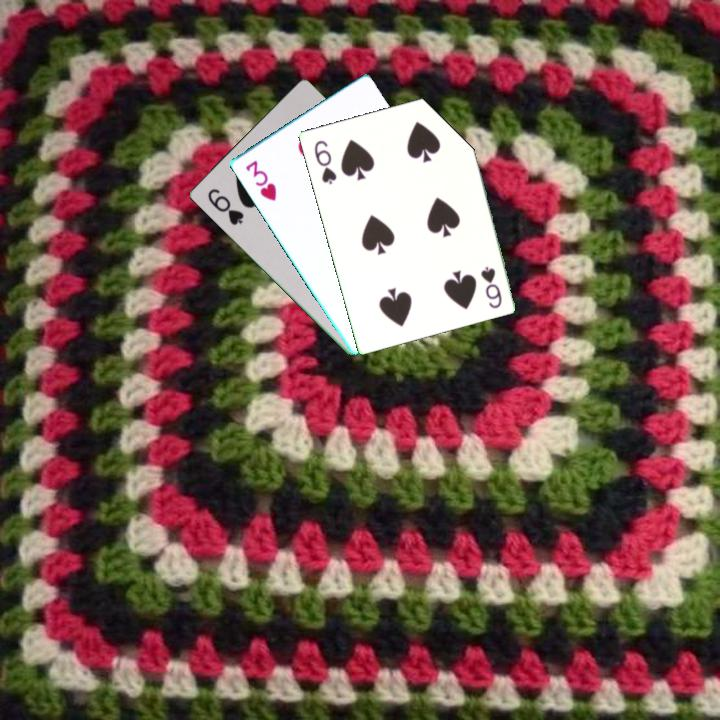3h: (242, 156, 279, 204)
6s: (203, 185, 246, 228), (310, 137, 339, 187), (477, 263, 504, 311)
